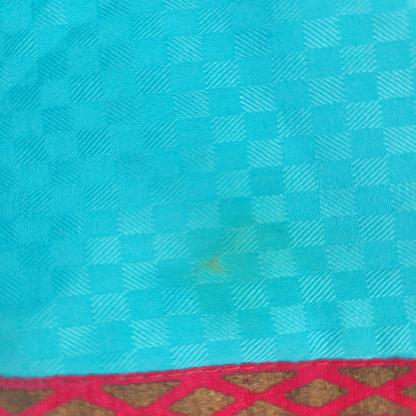spot: (196, 280, 260, 322), (219, 224, 290, 251), (221, 198, 286, 224), (194, 252, 245, 282), (203, 257, 229, 273)
